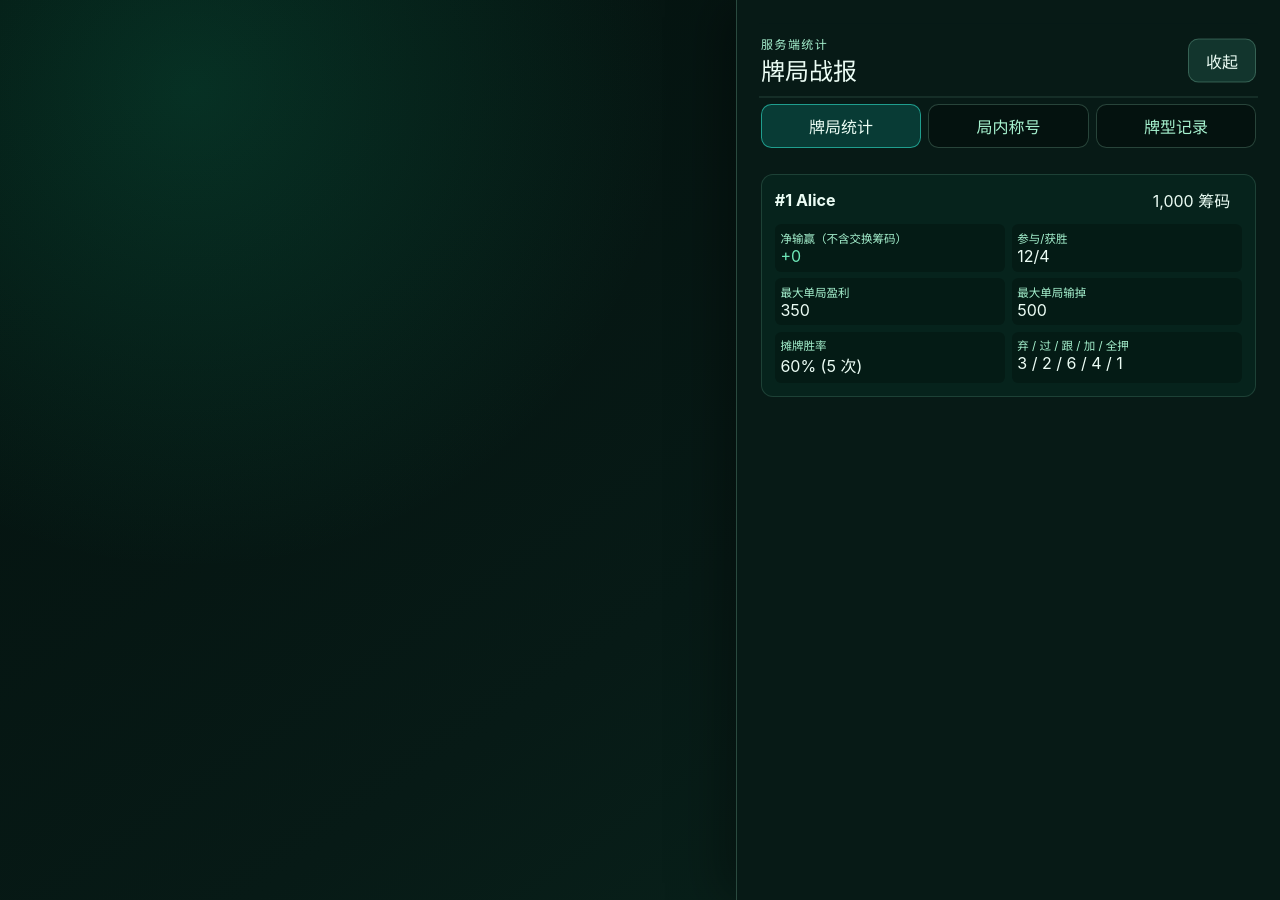
Test case: StatisticsPanel › formats the tight-player ratio with two decimal places
The image size is (1280, 900).
Click the tab "局内称号" at (1008, 126), box [928, 104, 1089, 148]
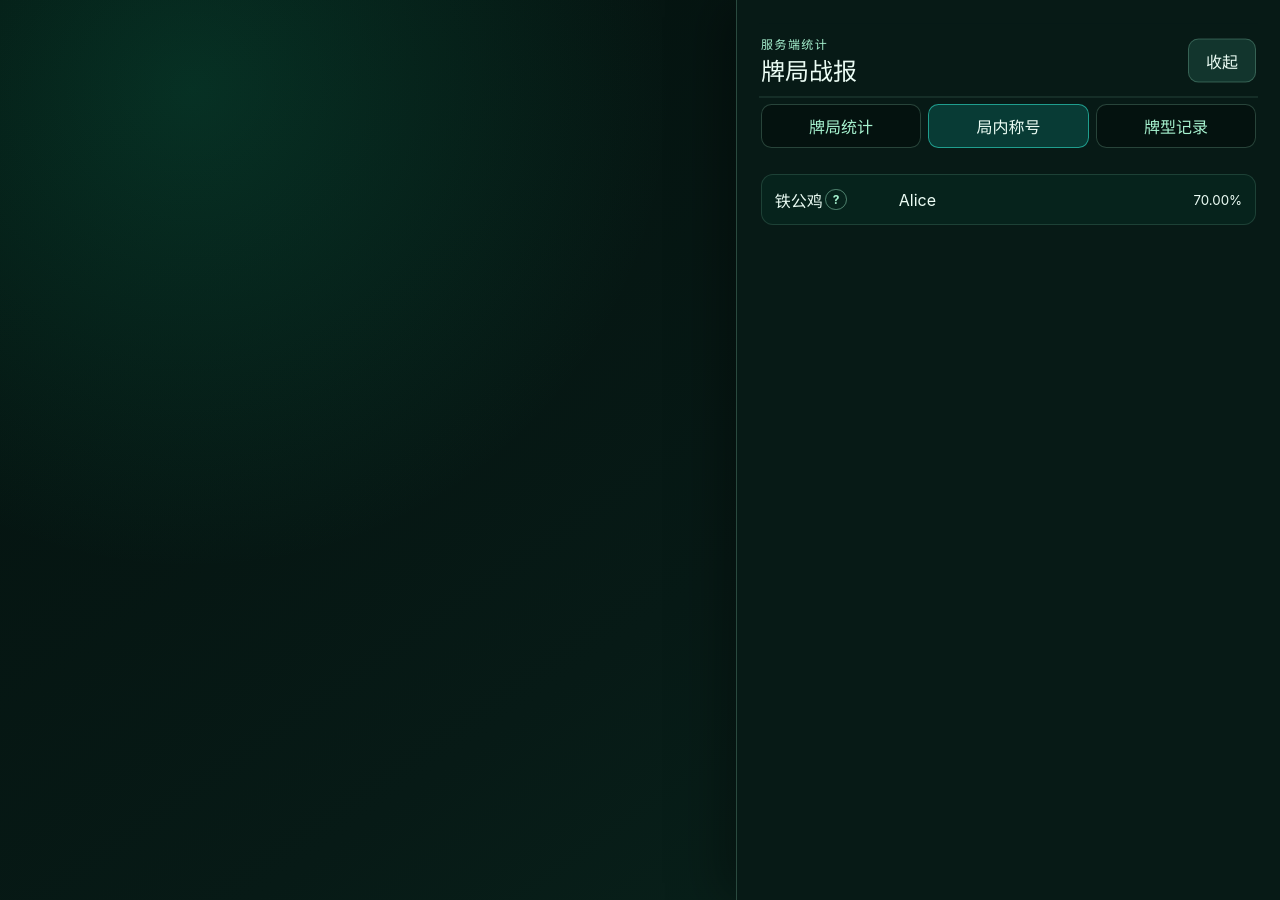
Result: the text "70.00%" is shown at [1193, 192, 1242, 208]
